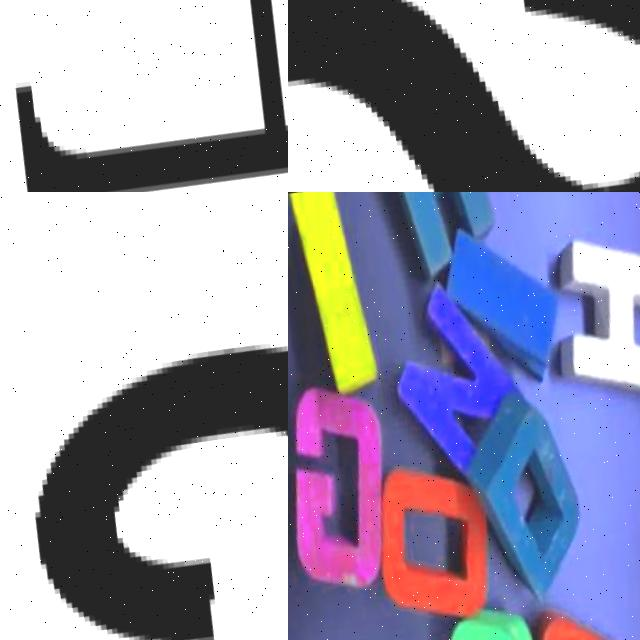5: (0, 252, 288, 640)
C: (419, 583, 576, 640)
D: (461, 363, 608, 596)
G: (288, 366, 424, 603)
H: (532, 202, 640, 422)
O: (359, 448, 515, 634)
S: (288, 0, 640, 192)
U: (512, 577, 640, 640)
